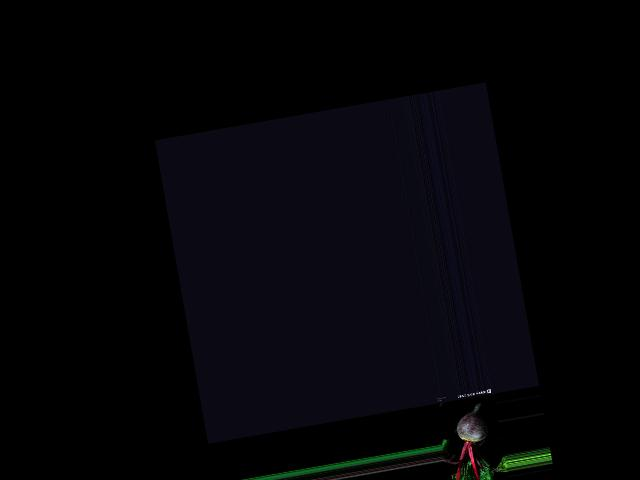beet: (434, 400, 509, 480)
